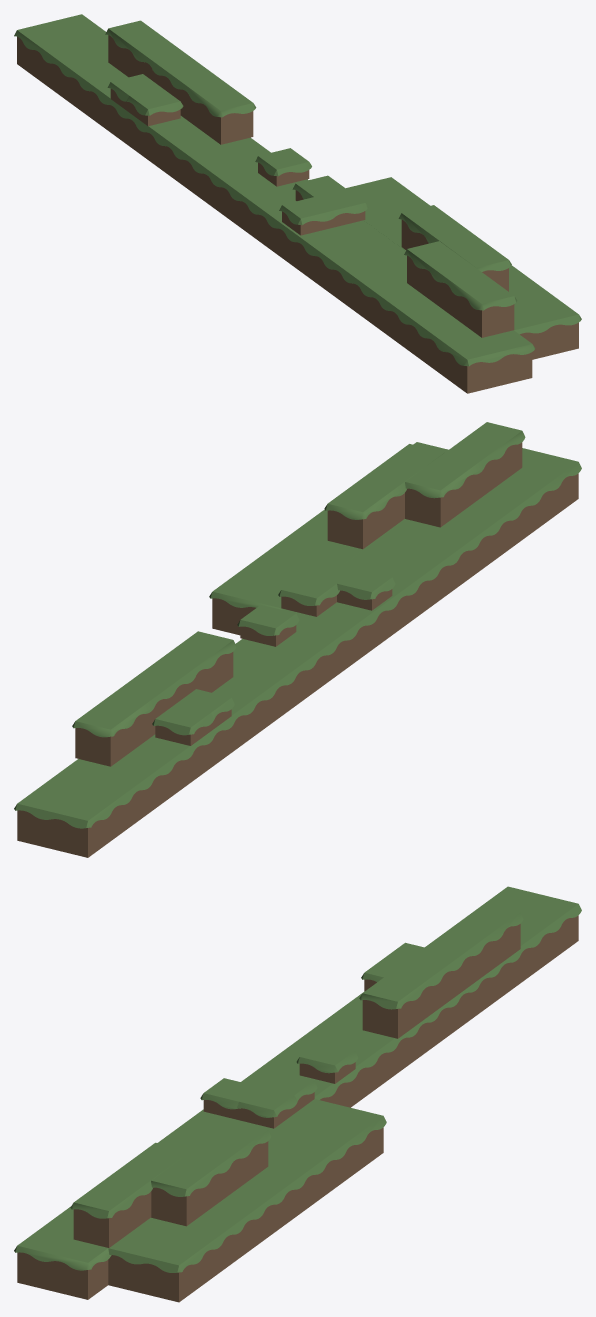
The model's file is wallgroup02.fbx.
The picture shows the model from 3 angles, top to bottom: view 1: azimuth 30°, elevation 25°; view 2: azimuth 150°, elevation 25°; view 3: azimuth 330°, elevation 25°; orthographic projection. The views are drawn at different scales.
Parts seen in each view (by area): view 1: blockSnowLarge.001, blockSnowLong.011, blockSnowLarge.016, blockSnowLong.012, blockSnowLong.013, blockSnowHalf.010, blockSnowHalf.011, blockSnowHalf.014, blockSnowHalf.013, blockSnowHalf.012; view 2: blockSnowLarge.001, blockSnowLong.011, blockSnowLong.012, blockSnowLarge.016, blockSnowLong.013, blockSnowHalf.010, blockSnowHalf.011, blockSnowHalf.012, blockSnowHalf.014, blockSnowHalf.013; view 3: blockSnowLarge.001, blockSnowLarge.016, blockSnowLong.011, blockSnowLong.013, blockSnowLong.012, blockSnowHalf.011, blockSnowHalf.013, blockSnowHalf.014, blockSnowHalf.012, blockSnowHalf.010.
Part boxes in pixels (x1=…): blockSnowLarge.001: x1=14, y1=14, x2=535, y2=393; blockSnowLong.011: x1=105, y1=20, x2=256, y2=144; blockSnowLarge.016: x1=346, y1=177, x2=581, y2=359; blockSnowLong.012: x1=404, y1=241, x2=517, y2=337; blockSnowLong.013: x1=398, y1=205, x2=511, y2=291; blockSnowHalf.010: x1=107, y1=74, x2=183, y2=126; blockSnowHalf.011: x1=255, y1=148, x2=311, y2=186; blockSnowHalf.014: x1=279, y1=197, x2=334, y2=235; blockSnowHalf.013: x1=314, y1=189, x2=368, y2=227; blockSnowHalf.012: x1=292, y1=175, x2=345, y2=200; blockSnowLarge.001: x1=14, y1=448, x2=581, y2=857; blockSnowLong.011: x1=72, y1=631, x2=236, y2=766; blockSnowLong.012: x1=405, y1=422, x2=525, y2=527; blockSnowLarge.016: x1=209, y1=442, x2=448, y2=635; blockSnowLong.013: x1=324, y1=444, x2=444, y2=549; blockSnowHalf.010: x1=152, y1=689, x2=234, y2=745; blockSnowHalf.011: x1=237, y1=605, x2=299, y2=646; blockSnowHalf.012: x1=278, y1=575, x2=339, y2=616; blockSnowHalf.014: x1=337, y1=568, x2=395, y2=610; blockSnowHalf.013: x1=302, y1=560, x2=356, y2=583; blockSnowLarge.001: x1=14, y1=886, x2=581, y2=1299; blockSnowLarge.016: x1=108, y1=1099, x2=386, y2=1302; blockSnowLong.011: x1=359, y1=903, x2=523, y2=1038; blockSnowLong.013: x1=151, y1=1121, x2=271, y2=1226; blockSnowLong.012: x1=70, y1=1142, x2=190, y2=1247; blockSnowHalf.011: x1=296, y1=1042, x2=358, y2=1083; blockSnowHalf.013: x1=237, y1=1086, x2=297, y2=1128; blockSnowHalf.014: x1=200, y1=1078, x2=258, y2=1119; blockSnowHalf.012: x1=259, y1=1072, x2=317, y2=1113; blockSnowHalf.010: x1=361, y1=942, x2=424, y2=991.
Size of the model in its own units: 4.25 by 2 by 24.23.
